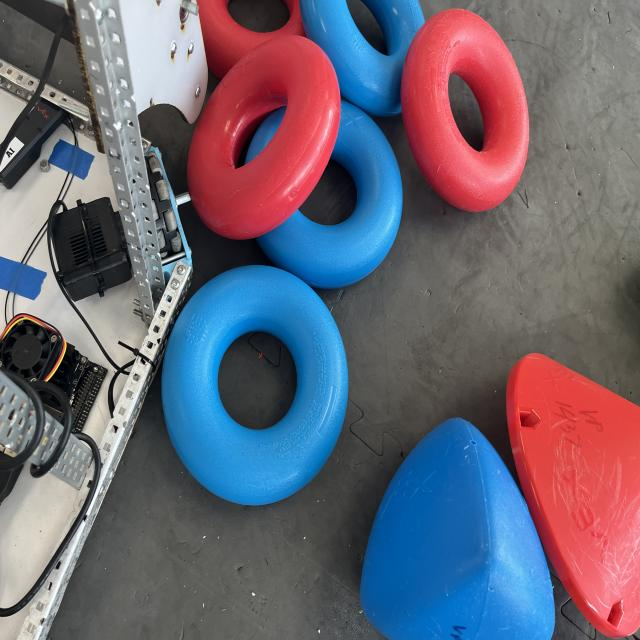Blue-Ring: (162, 265, 349, 505), (258, 102, 402, 288), (300, 0, 424, 117)
Red-Ring: (188, 35, 341, 240), (401, 8, 529, 212), (199, 0, 305, 78)
